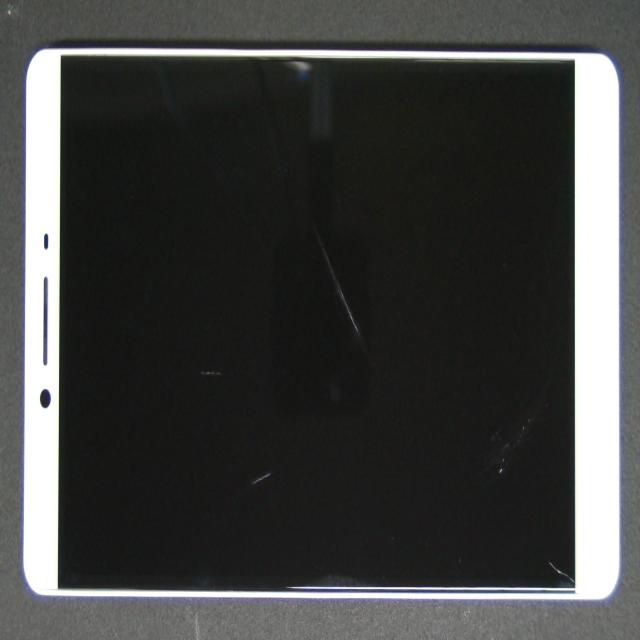scratch: (201, 168, 499, 361)
